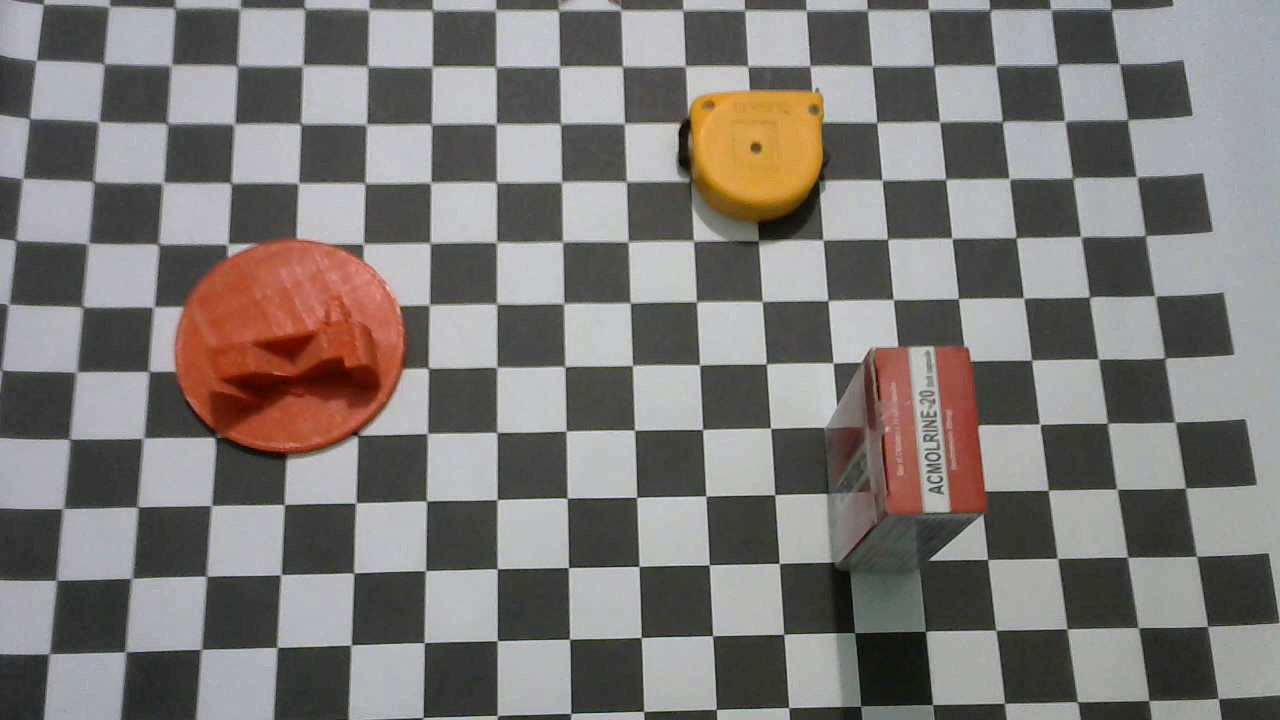blue: (677, 85, 828, 222)
green: (170, 239, 406, 457)
red: (825, 344, 989, 571)
